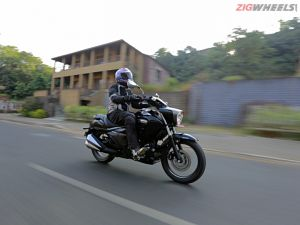helmet: (114, 69, 136, 90)
